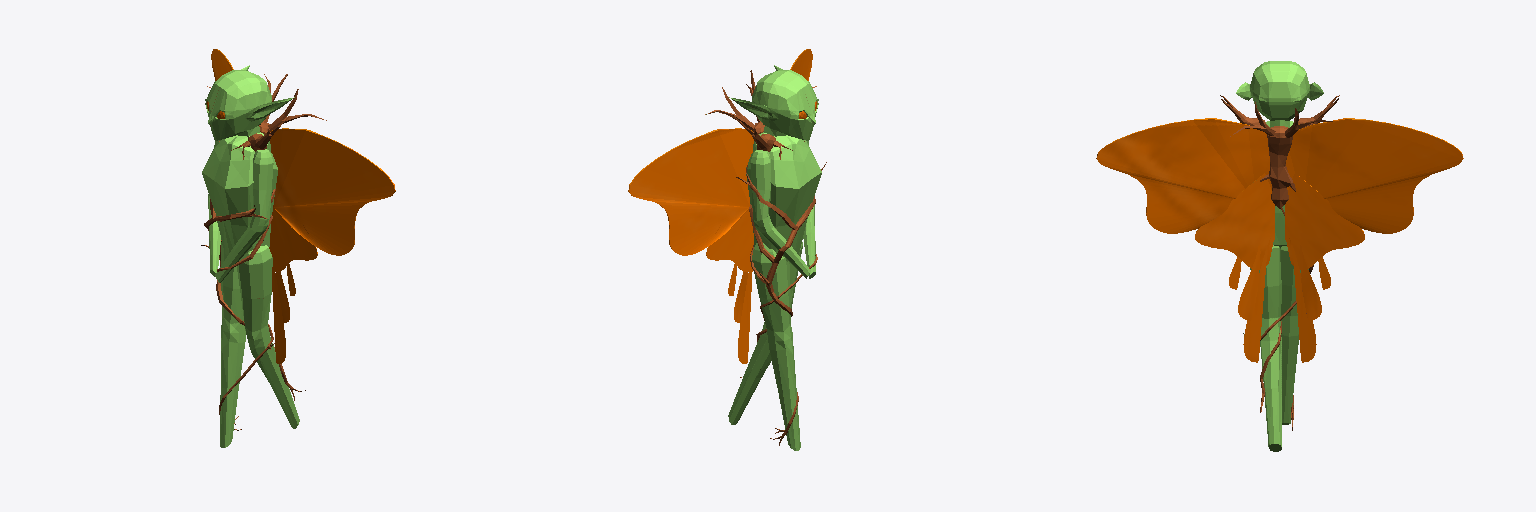
3 renders of one model, left to right at view 1: azimuth 30°, elevation 25°; view 2: azimuth 150°, elevation 25°; view 3: azimuth 270°, elevation 25°, orthographic.
Visible parts, largest first — view 1: Cube; view 2: Cube; view 3: Cube.
Part boxes in pixels (bbox=[...]): Cube: bbox=[201, 49, 395, 447]; Cube: bbox=[628, 49, 826, 450]; Cube: bbox=[1096, 61, 1463, 451].
Bounding box in the file's own units: 1.54 × 5.69 × 5.12.
Materials: 1 (1 with a texture image).